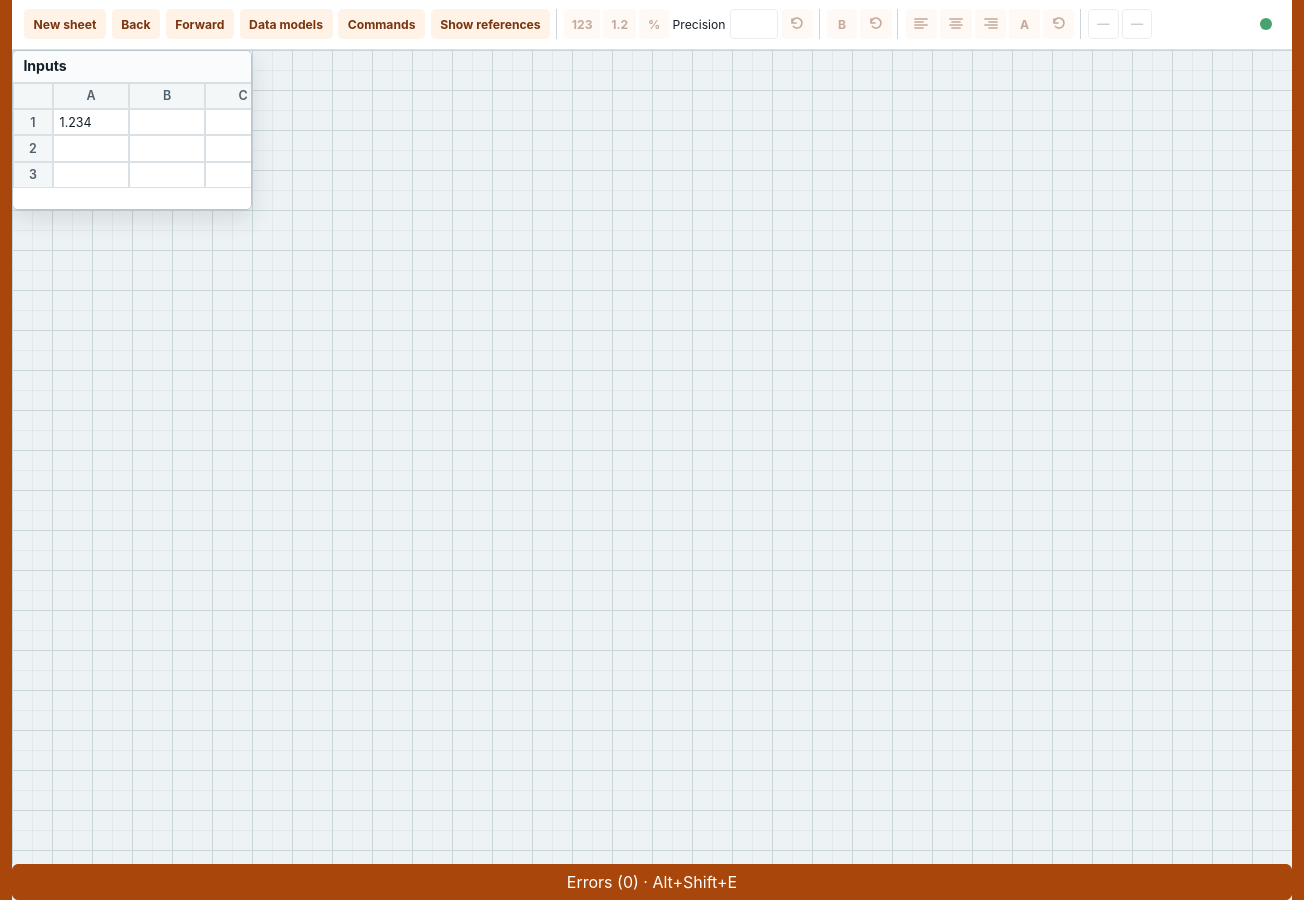
Test case: compact workspace interactions › routes a physical formatting shortcut to the visible active cell and retains focus
The image size is (1304, 900).
Click the cell named "Inputs A1 cell" at (91, 122), box [53,109,129,135]
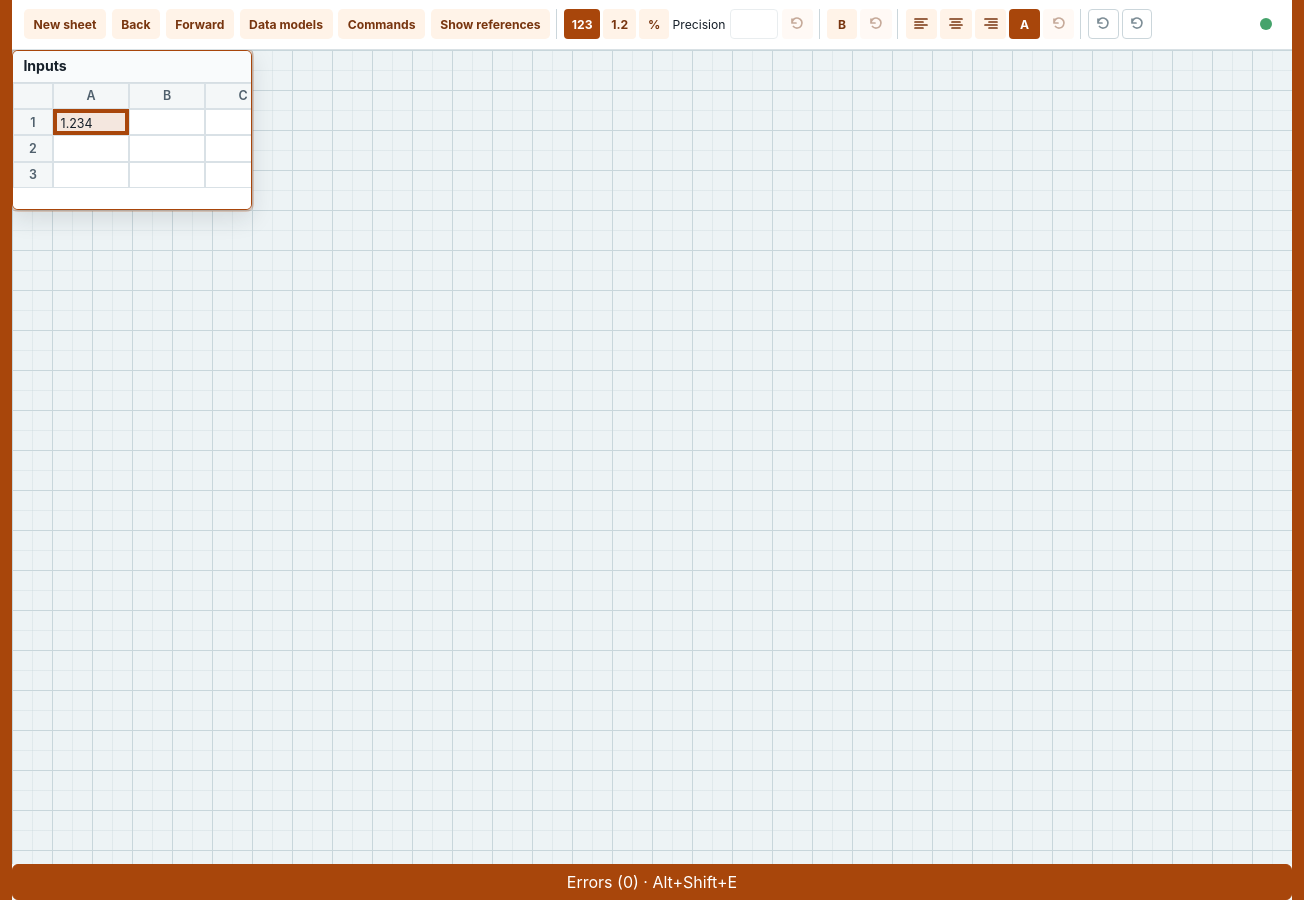
Press ! in the cell named "Inputs A1 cell", box [53,109,129,135]
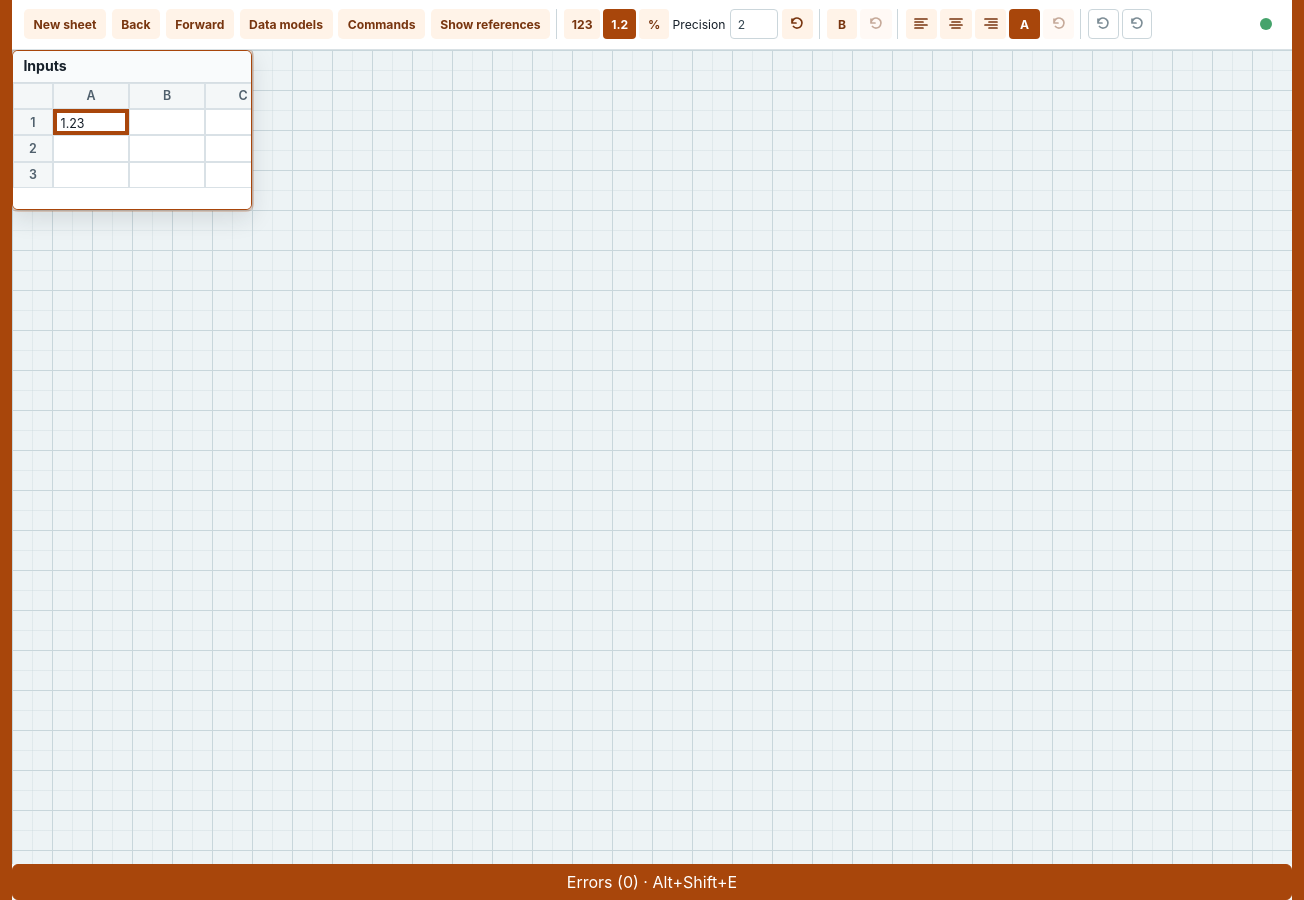
Check: the cell named "Inputs A1 cell" reads "1.23", box [61,116,85,131]
